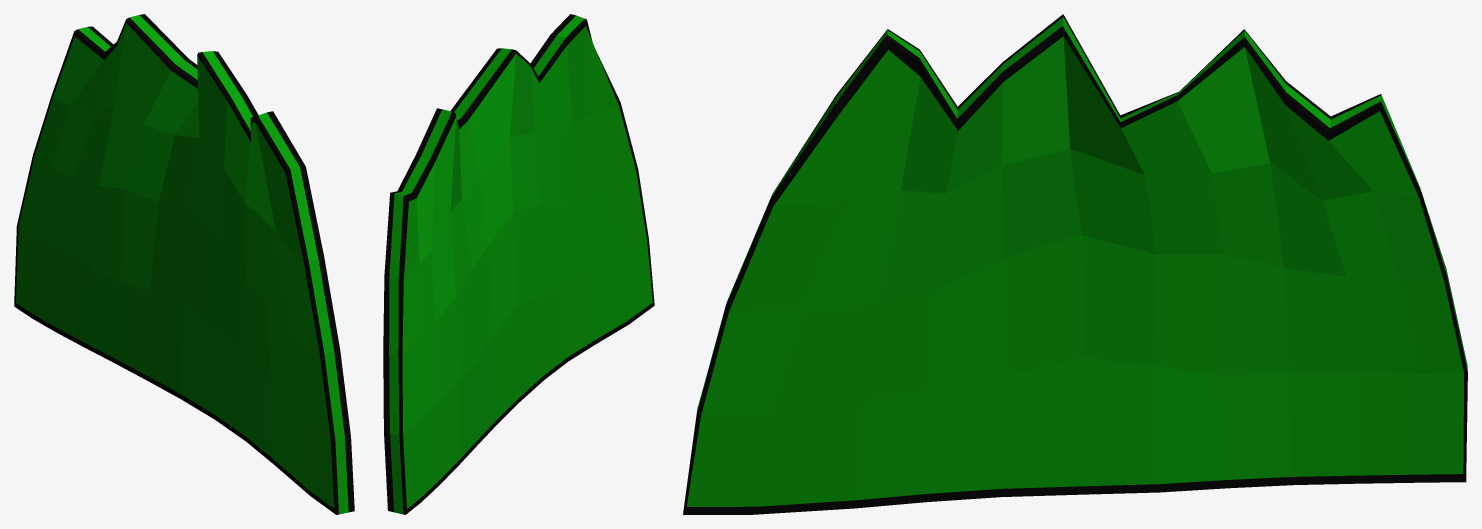
The model's file is CardboardBush04.fbx.
3 views of the same model, side by side, from view 1: azimuth 30°, elevation 25°; view 2: azimuth 150°, elevation 25°; view 3: azimuth 270°, elevation 25° (orthographic). The views are drawn at different scales.
Visible parts, largest first — view 1: Cube.055; view 2: Cube.055; view 3: Cube.055.
Part boxes in pixels (left/top/right/bottom): Cube.055: left=14, top=14, right=354, bottom=514; Cube.055: left=383, top=14, right=654, bottom=514; Cube.055: left=683, top=14, right=1467, bottom=514.
Bounding box in the file's own units: 57.78 × 242 × 351.
